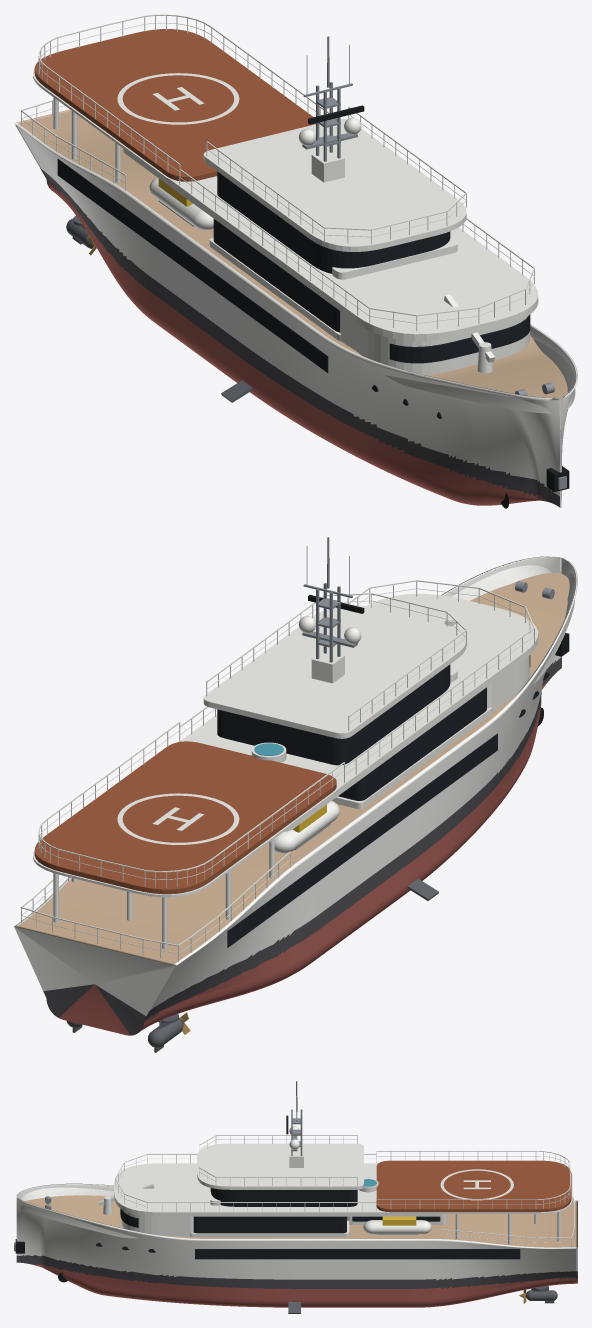
Rendered from paspaley_pearl.glb.
The picture shows the model from 3 angles, top to bottom: view 1: azimuth 30°, elevation 25°; view 2: azimuth 150°, elevation 25°; view 3: azimuth 270°, elevation 25°; orthographic projection. The views are drawn at different scales.
Parts seen in each view (by area): view 1: Hull, Helideck, D4_Roof, D4_DeckSlab, HullWindowBand_S, D4_Glazing, D3_ForwardFront, D3_Glazing, Rail_Helideck, D3_FrontWindows, Rail_D4, Rail_BridgeRoof (+7 smaller); view 2: Hull, Helideck, D4_Roof, D4_DeckSlab, D4_Glazing, HullWindowBand_S, D3_Glazing, Rail_Helideck, Rail_D4, Rail_BridgeRoof, Rail_D3_Aft, D3_Sill (+5 smaller); view 3: Hull, Helideck, D4_Roof, D4_DeckSlab, HullWindowBand_P, D3_Glazing, D4_Glazing, Rail_Helideck, D3_ForwardFront, Rail_D4, Rail_BridgeRoof, D3_Sill (+6 smaller).
Boxes of the visible parts, x1,y1,x2,y2 form: Hull: (14, 109, 577, 507); Helideck: (34, 29, 315, 181); D4_Roof: (203, 118, 466, 251); D4_DeckSlab: (123, 145, 538, 341); HullWindowBand_S: (57, 159, 328, 372); D4_Glazing: (217, 171, 450, 273); D3_ForwardFront: (340, 311, 529, 374); D3_Glazing: (213, 219, 340, 332); Rail_Helideck: (38, 14, 337, 180); D3_FrontWindows: (389, 314, 530, 363); Rail_D4: (179, 169, 534, 331); Rail_BridgeRoof: (206, 106, 466, 244); Hull: (14, 556, 577, 1035); Helideck: (34, 741, 336, 894); D4_Roof: (203, 605, 466, 738); D4_DeckSlab: (180, 593, 538, 831); D4_Glazing: (217, 664, 450, 765); HullWindowBand_S: (227, 733, 497, 947); D3_Glazing: (338, 687, 486, 800); Rail_Helideck: (38, 721, 344, 887); Rail_D4: (179, 580, 534, 782); Rail_BridgeRoof: (206, 593, 466, 730); Rail_D3_Aft: (21, 851, 290, 961); D3_Sill: (332, 707, 492, 809); Hull: (16, 1183, 577, 1307); Helideck: (376, 1160, 571, 1212); D4_Roof: (197, 1143, 363, 1189); D4_DeckSlab: (114, 1163, 446, 1216); HullWindowBand_P: (195, 1249, 520, 1259); D3_Glazing: (193, 1216, 346, 1233); D4_Glazing: (210, 1188, 357, 1206); Rail_Helideck: (376, 1151, 570, 1208); D3_ForwardFront: (121, 1210, 193, 1236); Rail_D4: (115, 1153, 376, 1211); Rail_BridgeRoof: (199, 1135, 357, 1185); D3_Sill: (190, 1220, 349, 1237).
Bounding box in the file's own units: 13.76 × 22.07 × 53.74.
